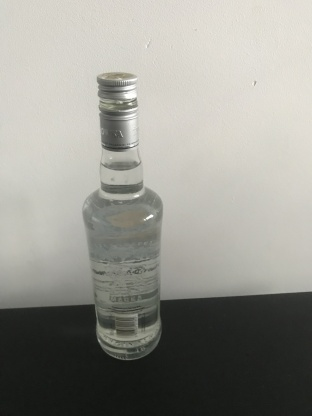nakretka: (95, 71, 139, 152)
